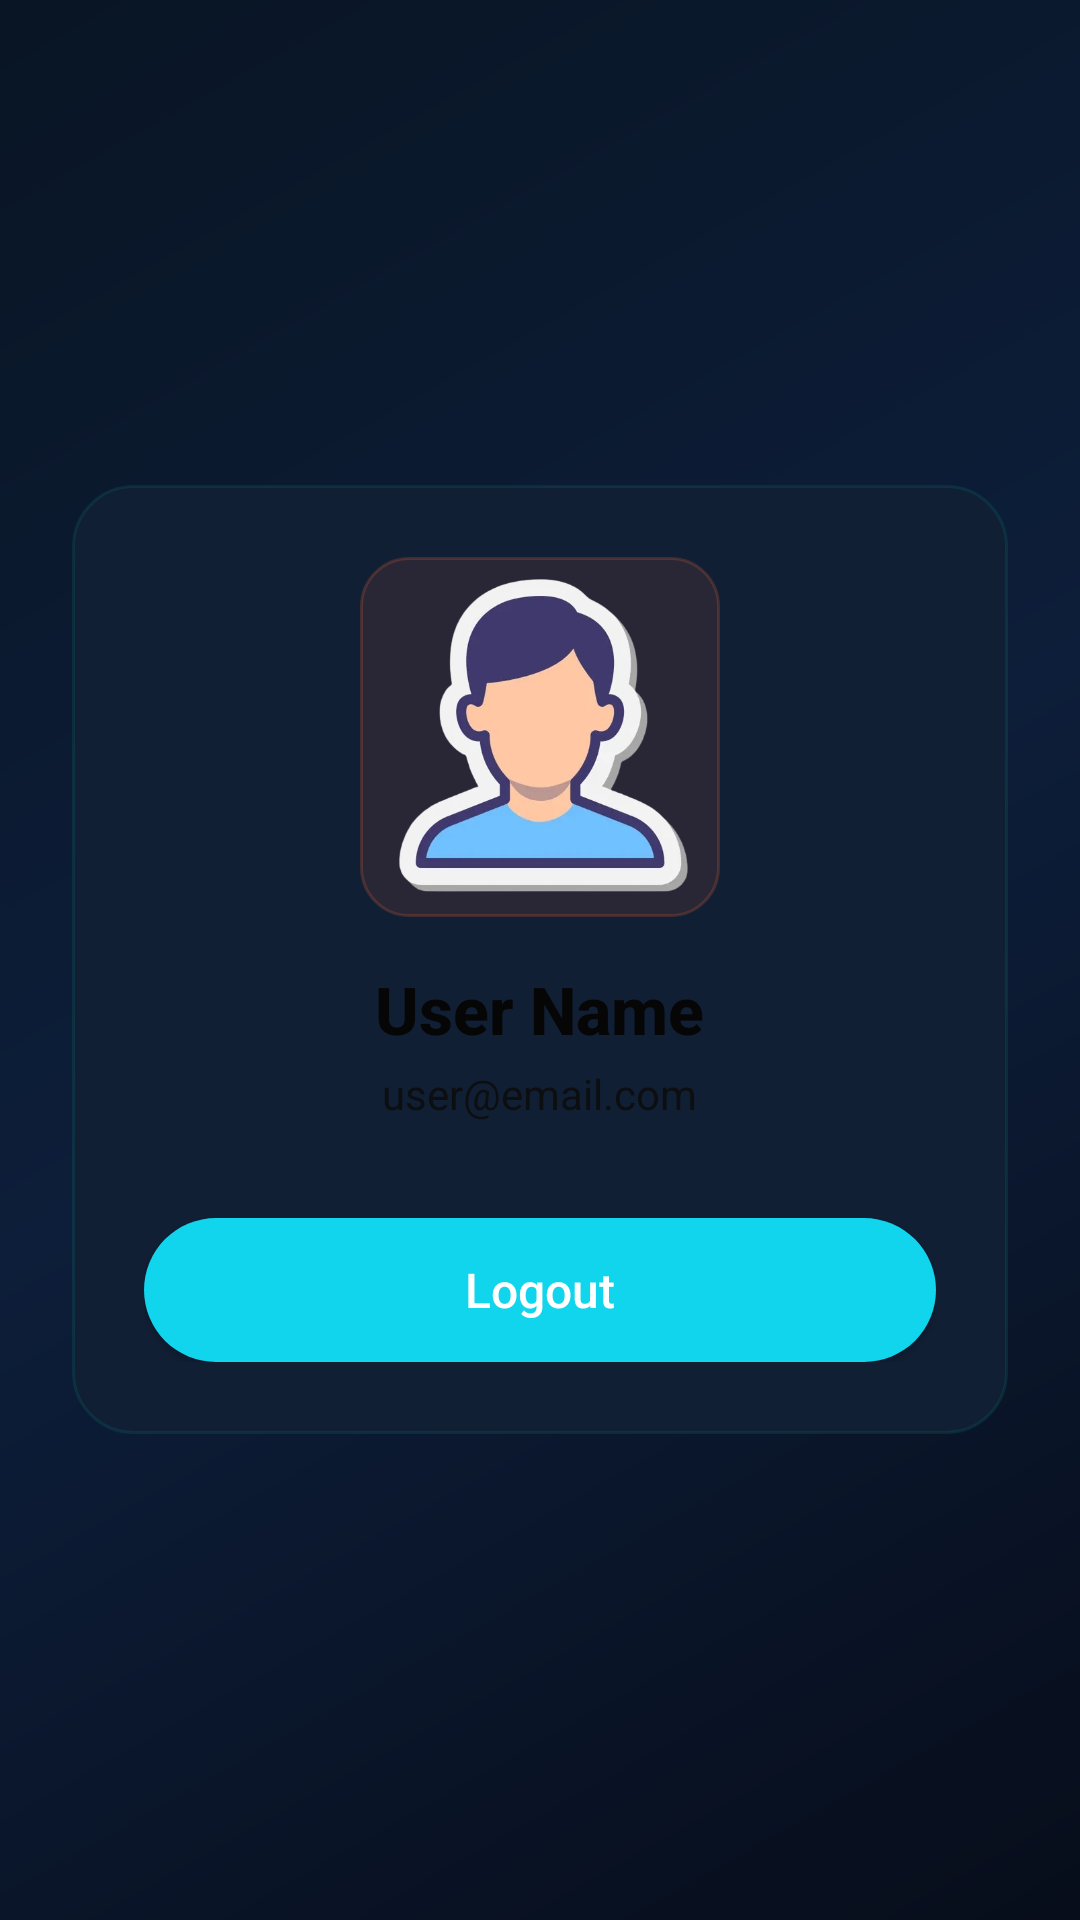

Where icons sit on this 1080w x 1920h app screen, as (x1, y1, x2, y2):
person: (360, 557, 720, 917)
